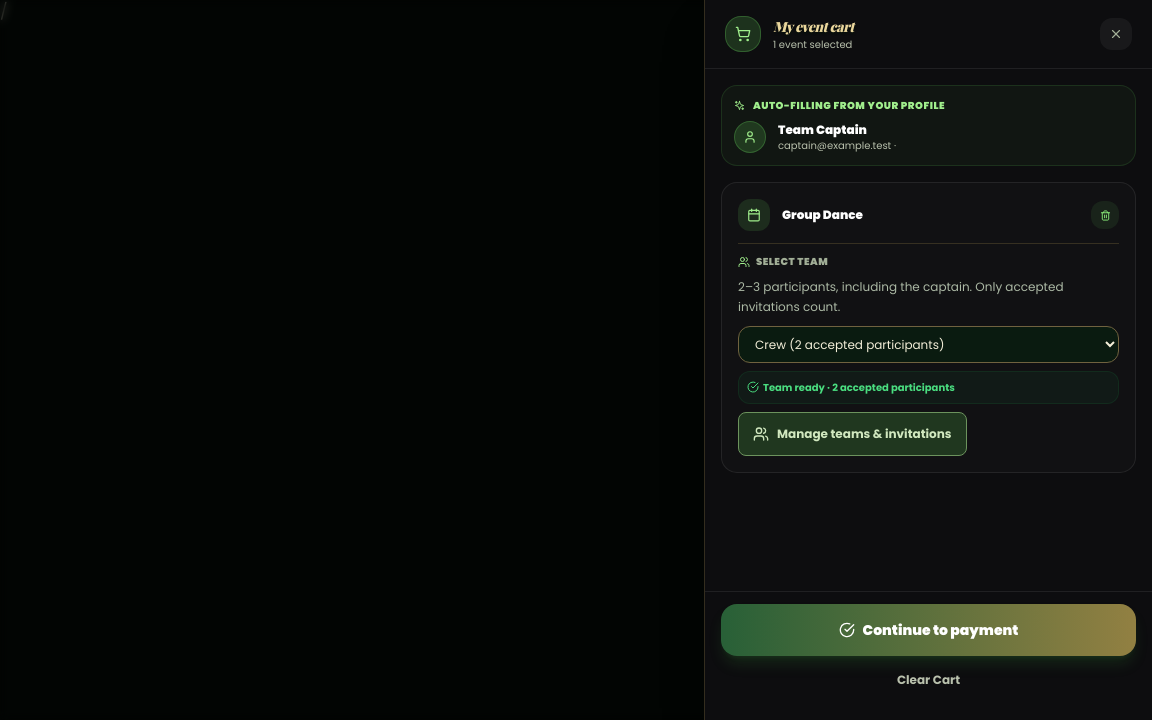
checks current team requirements before showing payment instructions or writing registration
This screenshot has width=1152, height=720.
Click the button "Continue to payment". click: (928, 630)
box: [721,604,1136,656]
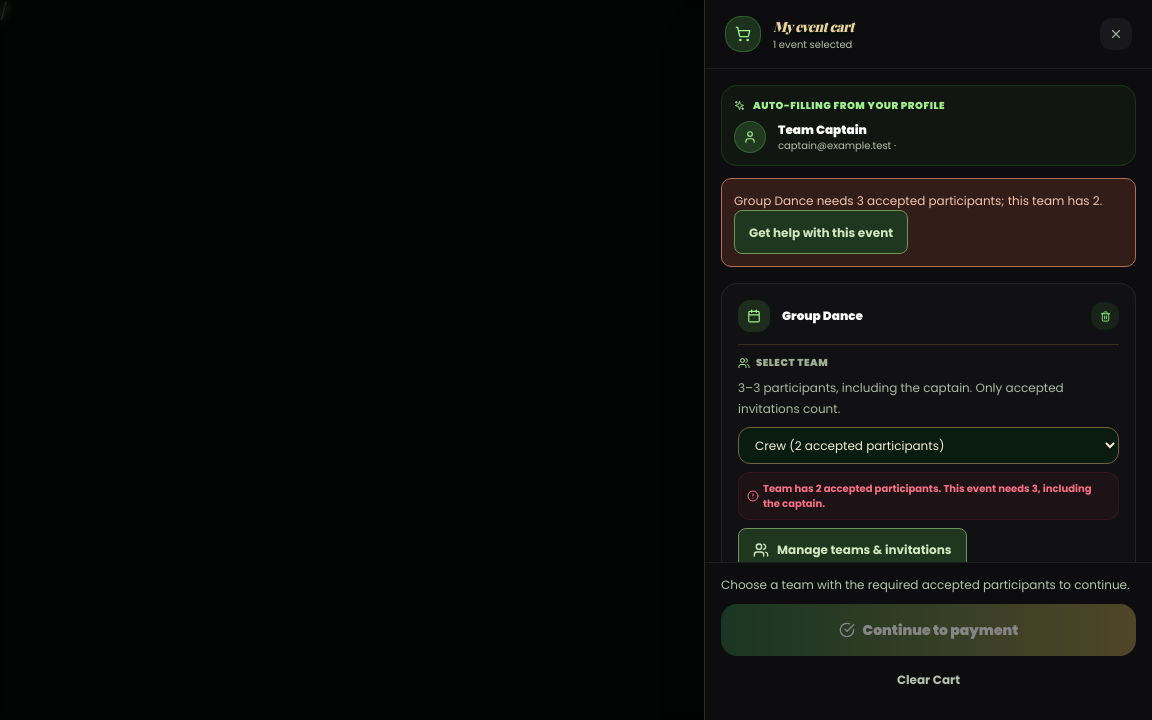
Check: the message shows "needs 3 accepted participants", box [734,192,1102,209]
